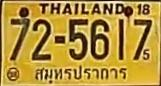1: (118, 18, 123, 60)
2: (31, 18, 50, 59)
5: (68, 18, 87, 59)
6: (90, 18, 108, 59)
7: (10, 18, 30, 60), (133, 19, 151, 58)
SPK: (32, 64, 129, 83)
